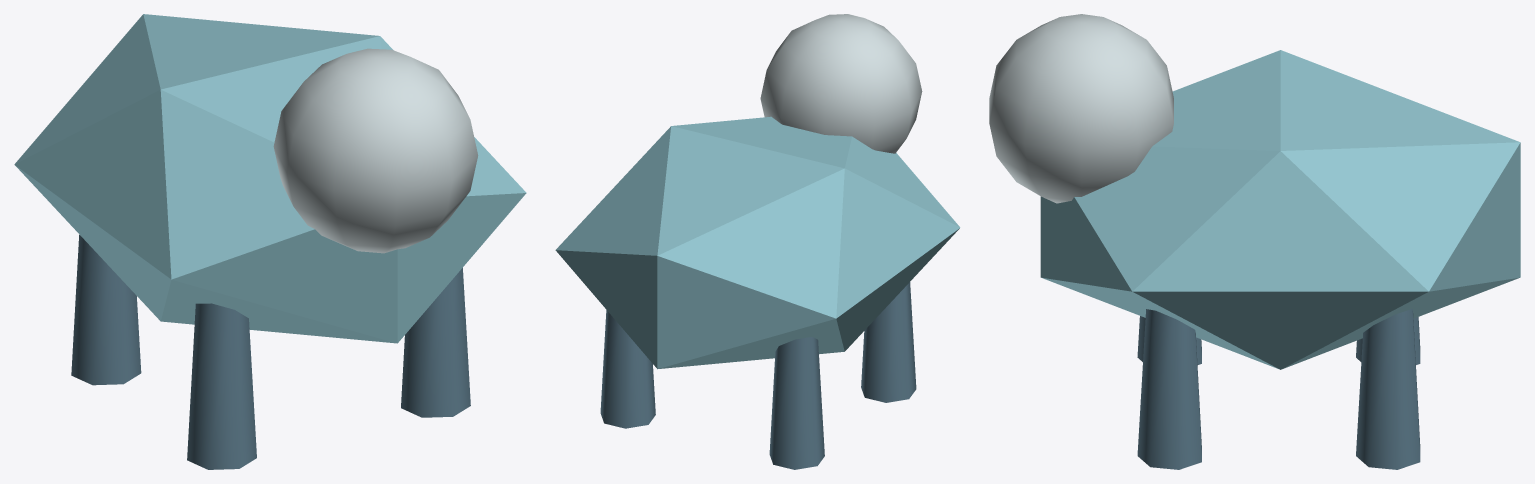
Rendered from ice_mole.glb.
The picture shows the model from 3 angles, left to right: view 1: azimuth 30°, elevation 25°; view 2: azimuth 150°, elevation 25°; view 3: azimuth 270°, elevation 25°; orthographic projection. The views are drawn at different scales.
Visible parts, largest first — view 1: body_core, head_core, leg_-1_1, leg_-1_-1, leg_1_1; view 2: body_core, head_core, leg_-1_-1, leg_-1_1, leg_1_-1; view 3: body_core, head_core, leg_1_1, leg_1_-1.
Part boxes in pixels (x1,y1,x2,y2): body_core: (14, 14, 526, 343); head_core: (273, 48, 478, 253); leg_-1_1: (187, 303, 256, 469); leg_-1_-1: (71, 234, 141, 385); leg_1_1: (401, 268, 470, 417); body_core: (555, 116, 960, 369); head_core: (760, 14, 922, 153); leg_-1_-1: (769, 337, 824, 469); leg_-1_1: (861, 282, 916, 402); leg_1_-1: (600, 310, 655, 428); body_core: (1040, 50, 1520, 369); head_core: (989, 14, 1173, 203); leg_1_1: (1137, 309, 1201, 469); leg_1_-1: (1356, 309, 1420, 469).
Size of what is drawn, in the model's own units: 1.59 by 1.75 by 2.19.
